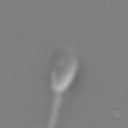normal: (44, 92, 67, 128)
